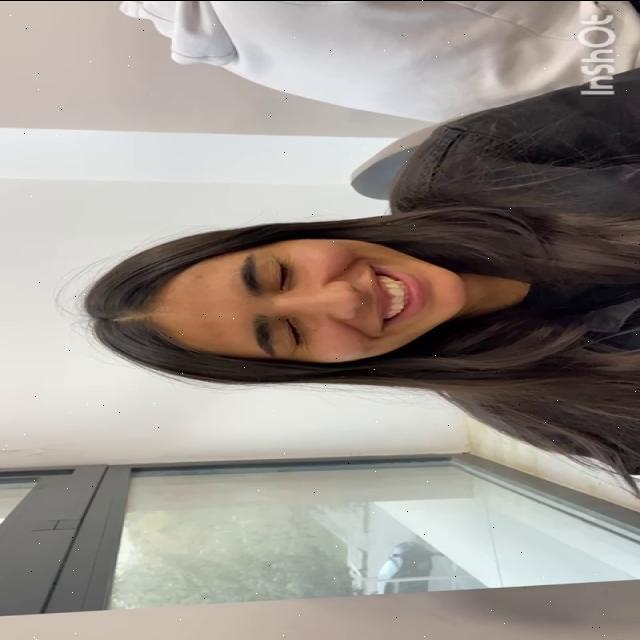happy: (154, 232, 469, 371)
